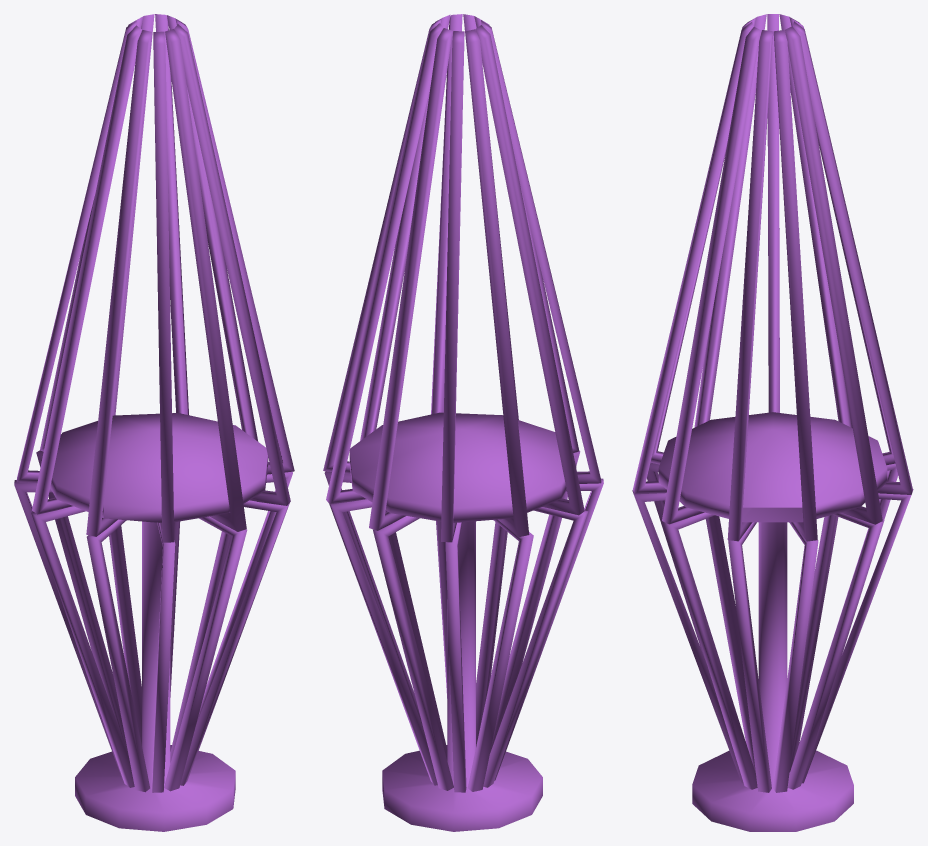
The model's file is abastract_lamp.dae.
The picture shows the model from 3 angles, left to right: view 1: azimuth 30°, elevation 25°; view 2: azimuth 150°, elevation 25°; view 3: azimuth 270°, elevation 25°; orthographic projection.
Parts seen in each view (by area): view 1: lamp-col; view 2: lamp-col; view 3: lamp-col.
Boxes of the visible parts, box(x1,y1,x2,y2) form: lamp-col: box(14, 14, 294, 831); lamp-col: box(323, 14, 603, 831); lamp-col: box(632, 14, 913, 831).
Size of the model in its own units: 0.8913 by 0.8943 by 2.73.
